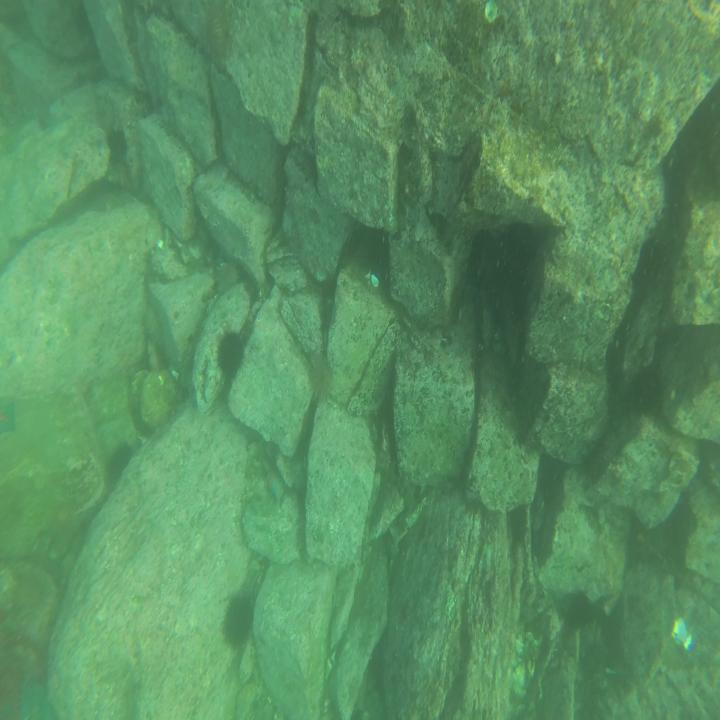echinus: (222, 584, 256, 656), (213, 326, 247, 382), (108, 440, 136, 487), (104, 128, 129, 171)
starfish: (0, 396, 17, 436)
